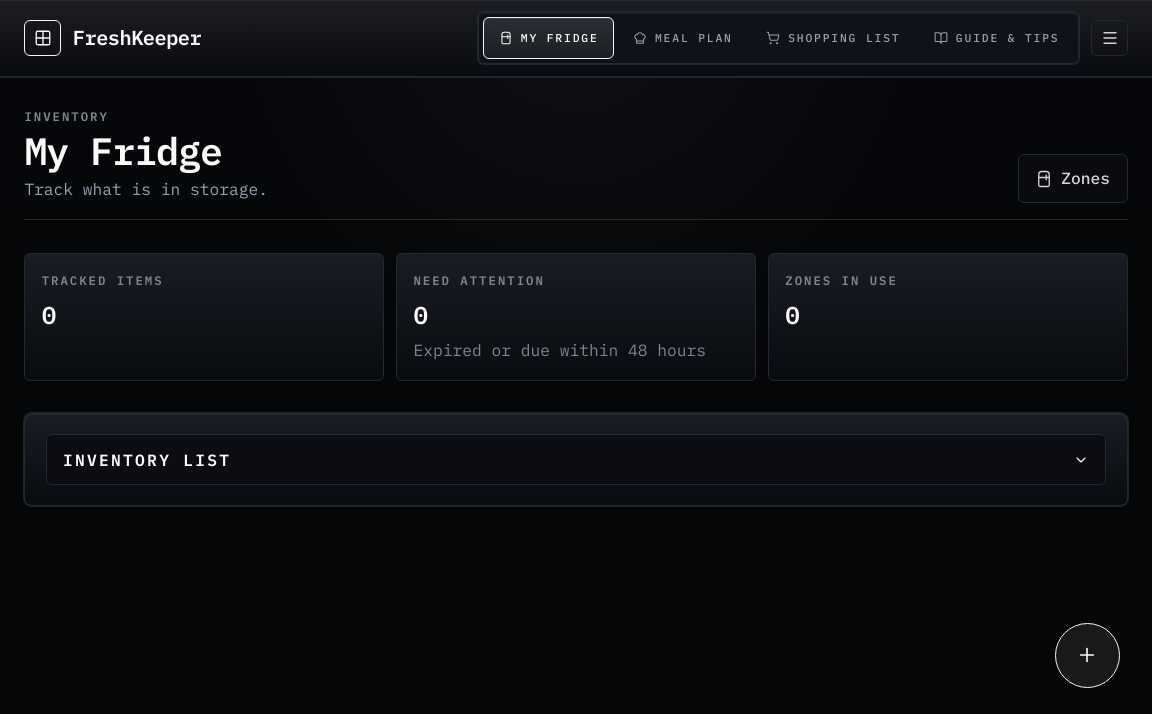
it: App shell › switches between tabs and renders the guide flow plus appearance controls
Expected: the heading "My Fridge" is shown, [24,126,222,175]
What coordinates should you click on to do the following:
click the button "Meal Plan"
I would click on:
 (683, 38)
Its box is [618,18,747,58].
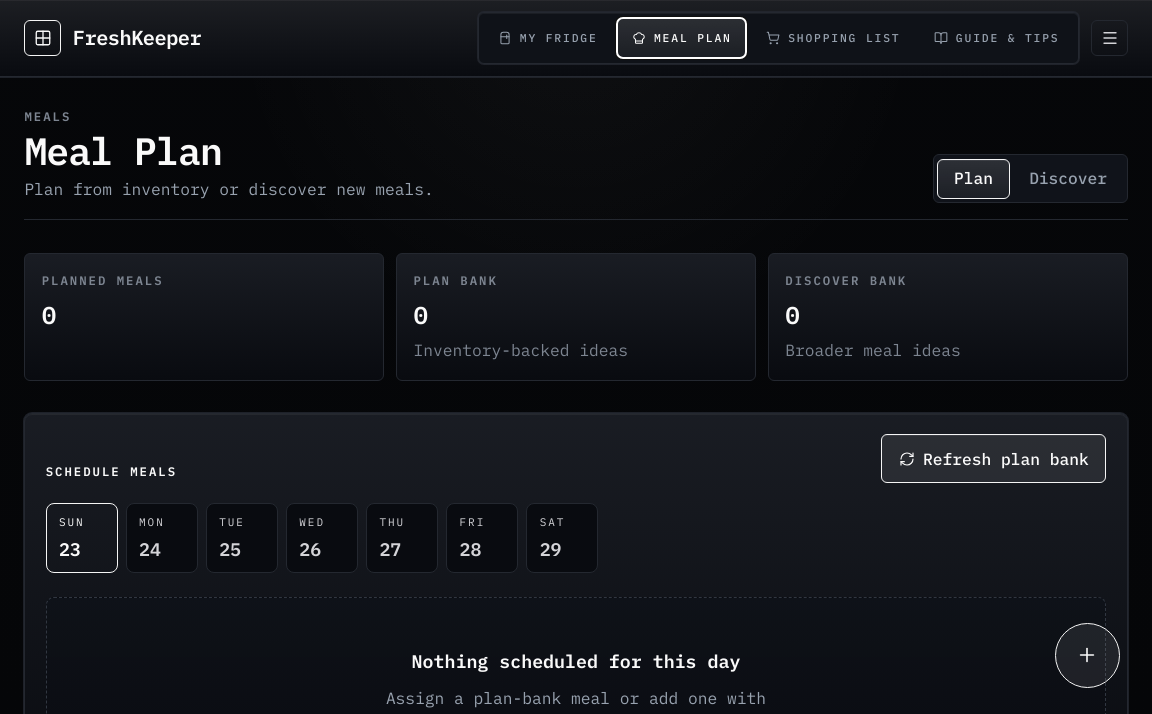
Expected: the heading "Meal Plan" is shown, [24,126,222,175]
What coordinates should you click on to do the following:
click the button "Guide & Tips"
I would click on:
 (997, 38)
Its box is [919,18,1074,58].
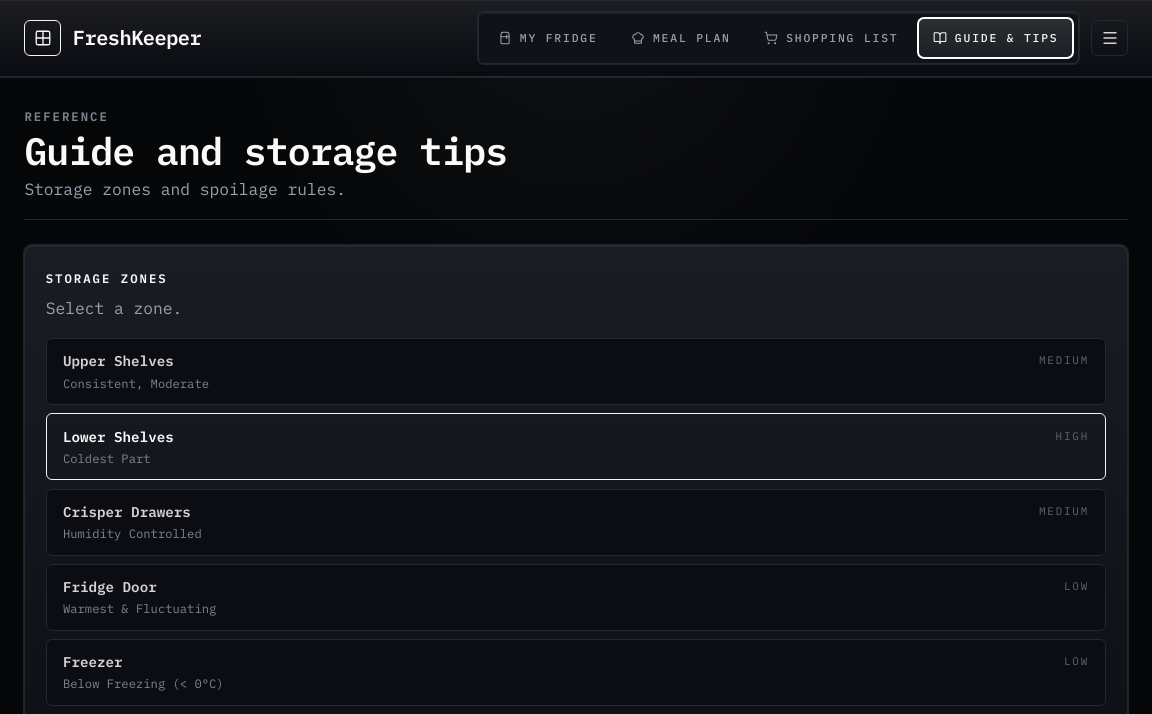
Expected: the heading "Guide and storage tips" is shown, [24,133,507,169]
What coordinates should you click on to do the following:
click the button "Shopping List"
I would click on:
 (831, 38)
Its box is [749,18,913,58].
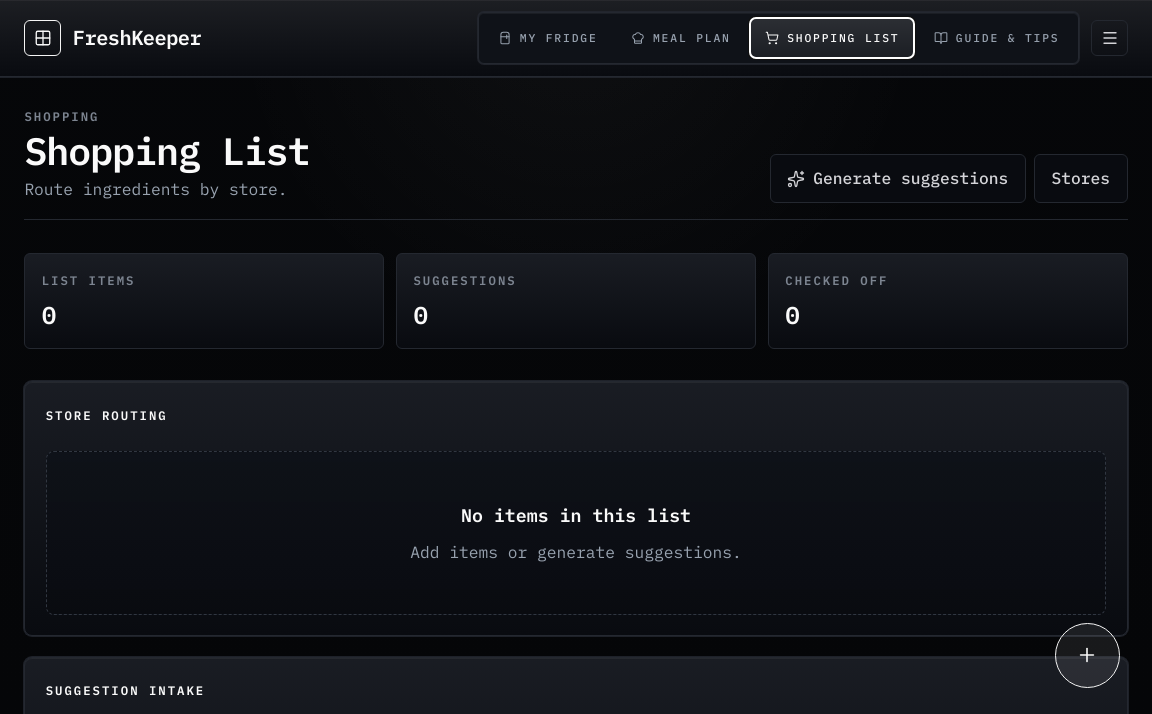
Expected: the heading "Suggestion intake" is shown, [46,678,205,702]
What coordinates should you click on to do the following:
click the button named "App menu"
I would click on:
 (1110, 38)
Its box is [1091,20,1128,56].
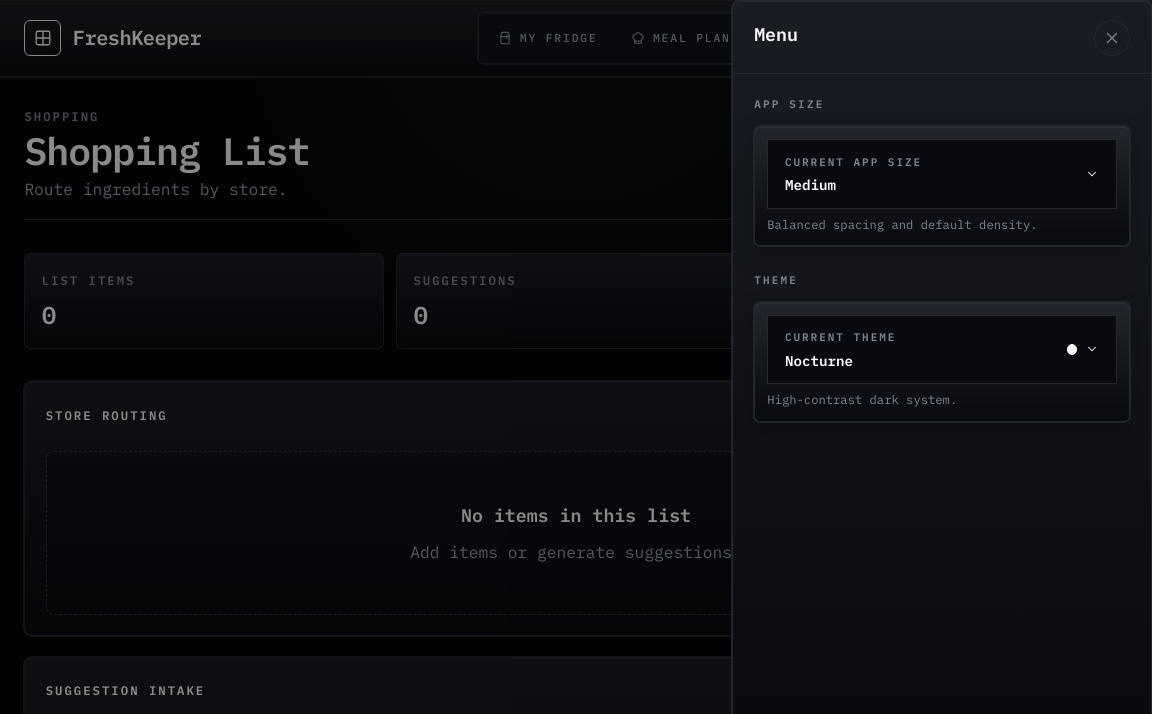
Expected: the heading "Menu" is shown, [754,20,798,48]
Expected: the text "Theme" is shown, [754,273,798,287]
Expected: the text "App Size" is shown, [754,97,824,111]
What coordinates should you click on to do the following:
click the button "Current app size Medium"
I would click on:
 (819, 162)
Its box is [767,139,1117,209].
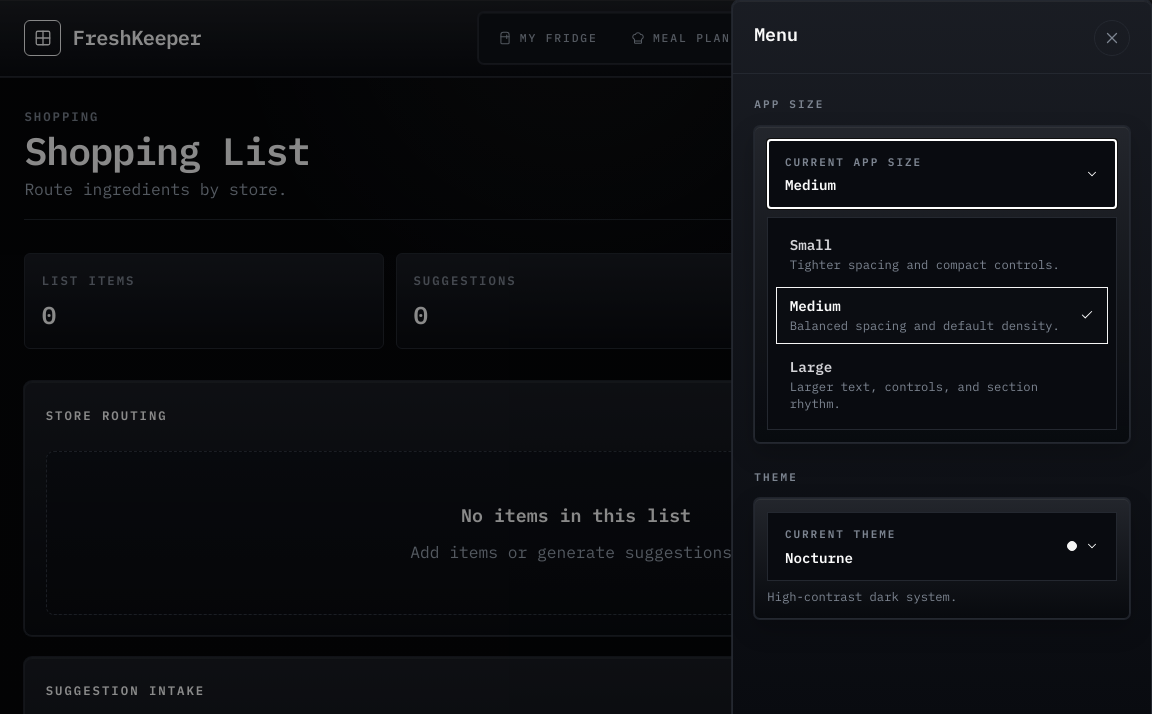
Expected: the button "Small Tighter spacing and compact controls." is shown, [776,226,1108,283]
Expected: the button "Large Larger text, controls, and section rhythm." is shown, [776,348,1108,421]
What coordinates should you click on to do the following:
click the button "Current theme Nocturne"
I would click on:
 (819, 534)
Its box is [767,512,1117,581].
(page scrolled)
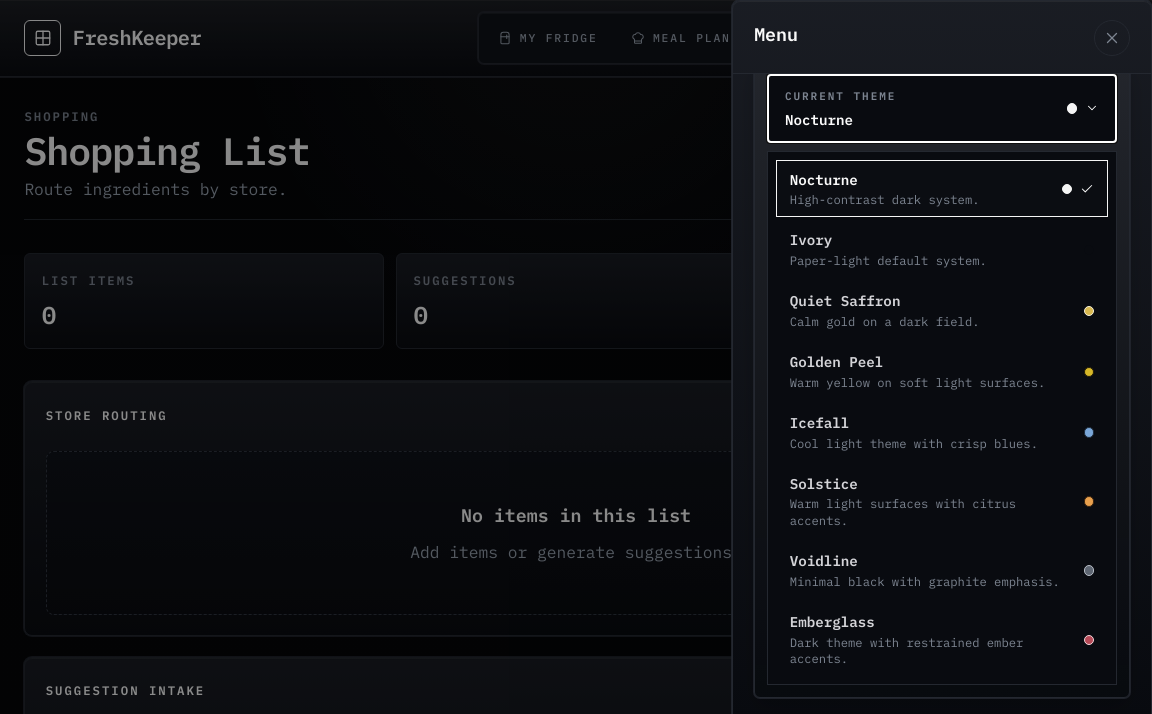
Expected: the text "High-contrast dark system." is shown, [790,192,980,208]
Expected: the button "Emberglass Dark theme with restrained ember accents." is shown, [776,603,1108,676]
